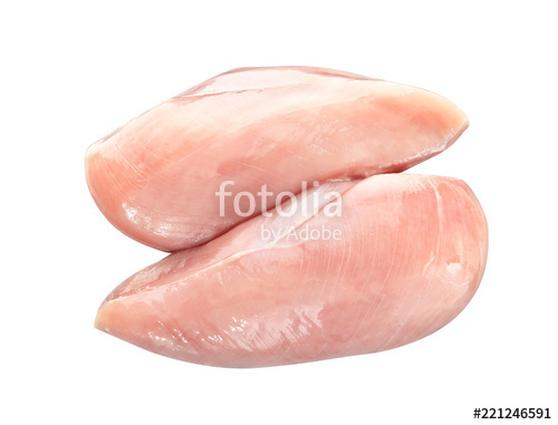chicken_fillet: (93, 167, 490, 369), (86, 70, 486, 246)
